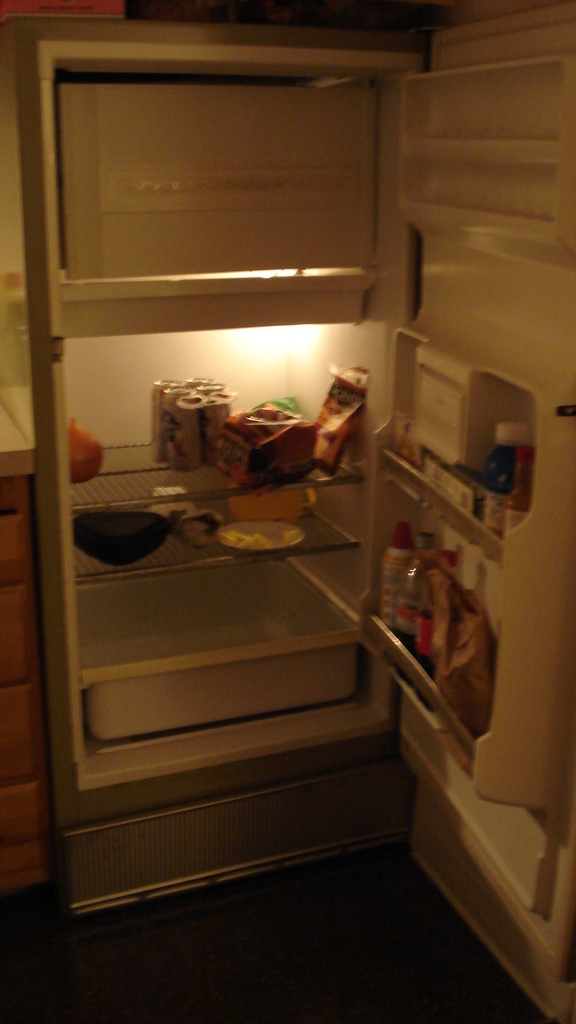cabinet door: (1, 686, 34, 789), (3, 592, 28, 676), (2, 794, 37, 841), (3, 513, 25, 575)
refrigerator door: (413, 243, 571, 892)
